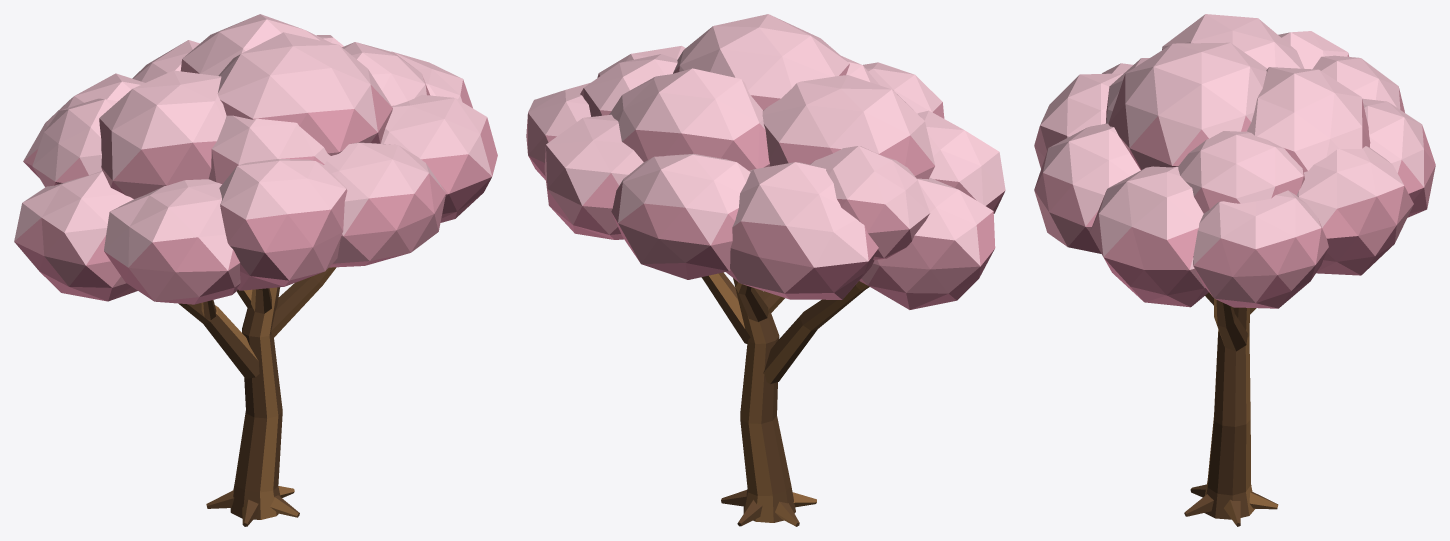
Rendered from SM_Wafu_Sakura_Bloom_01.fbx.
The picture shows the model from 3 angles, left to right: view 1: azimuth 30°, elevation 25°; view 2: azimuth 150°, elevation 25°; view 3: azimuth 270°, elevation 25°; orthographic projection.
Visible parts, largest first — view 1: SM_Wafu_Sakura_Bloom_01; view 2: SM_Wafu_Sakura_Bloom_01; view 3: SM_Wafu_Sakura_Bloom_01.
Boxes of the visible parts, x1,y1,x2,y2 form: SM_Wafu_Sakura_Bloom_01: (14, 14, 497, 526); SM_Wafu_Sakura_Bloom_01: (526, 14, 1005, 526); SM_Wafu_Sakura_Bloom_01: (1034, 14, 1435, 526).
Size of what is drawn, in the model's own units: 6.7 by 6.68 by 5.2.
